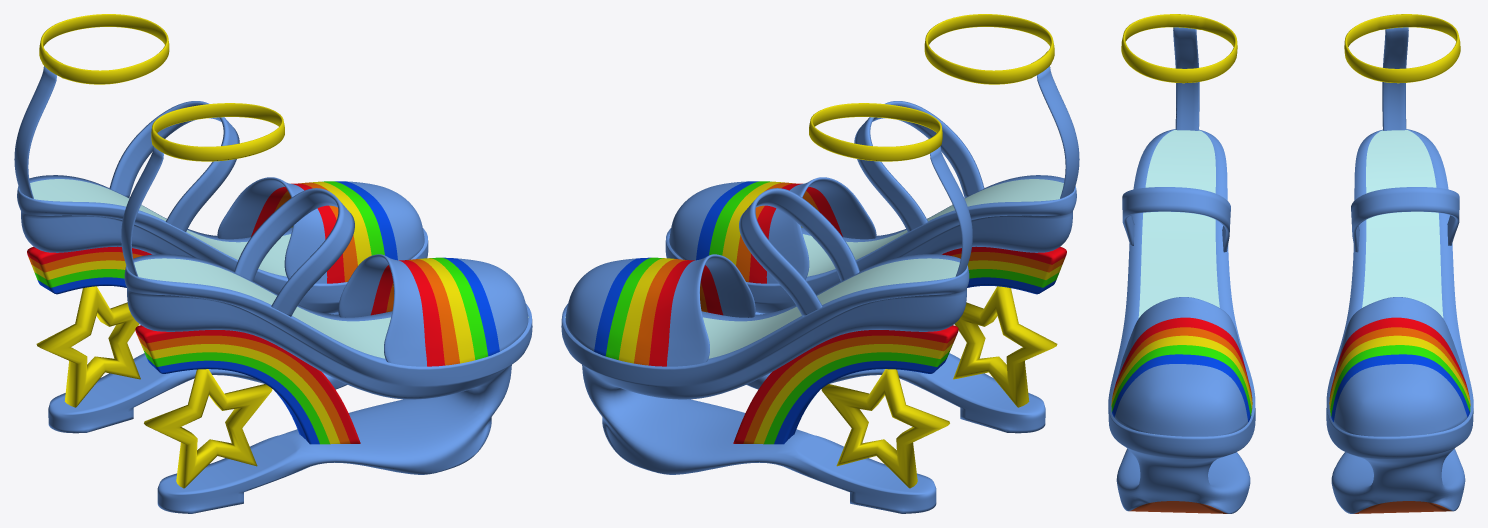
File: star_heel_shoe.glb
3 renders of one model, left to right at view 1: azimuth 30°, elevation 25°; view 2: azimuth 150°, elevation 25°; view 3: azimuth 270°, elevation 25°, orthographic. The views are drawn at different scales.
Parts seen in each view (by area): view 1: Object_2, Object_6, Object_10, Object_3, Object_4, Object_5, Object_7, Object_8; view 2: Object_2, Object_6, Object_10, Object_3, Object_4, Object_5, Object_7, Object_8; view 3: Object_2, Object_3, Object_6, Object_8, Object_7, Object_4, Object_5, Object_9.
Boxes of the visible parts, left/top/right/bottom form: Object_2: left=14, top=66, right=532, bottom=513; Object_6: left=31, top=14, right=475, bottom=444; Object_10: left=36, top=286, right=272, bottom=488; Object_3: left=30, top=179, right=528, bottom=358; Object_4: left=27, top=183, right=444, bottom=443; Object_5: left=28, top=182, right=459, bottom=443; Object_7: left=34, top=181, right=488, bottom=444; Object_8: left=37, top=181, right=499, bottom=444; Object_2: left=561, top=66, right=1079, bottom=513; Object_6: left=618, top=14, right=1062, bottom=444; Object_10: left=821, top=286, right=1057, bottom=488; Object_3: left=565, top=179, right=1063, bottom=358; Object_4: left=649, top=183, right=1066, bottom=443; Object_5: left=634, top=182, right=1065, bottom=443; Object_7: left=605, top=181, right=1059, bottom=444; Object_8: left=594, top=181, right=1056, bottom=444; Object_2: left=1108, top=27, right=1473, bottom=513; Object_3: left=1138, top=129, right=1443, bottom=434; Object_6: left=1111, top=14, right=1470, bottom=410; Object_8: left=1112, top=354, right=1469, bottom=421; Object_7: left=1111, top=345, right=1470, bottom=416; Object_4: left=1114, top=317, right=1467, bottom=392; Object_5: left=1112, top=327, right=1469, bottom=403; Object_9: left=1129, top=501, right=1452, bottom=513.
Size of the model in its own units: 6.6 by 5.93 by 5.34.
